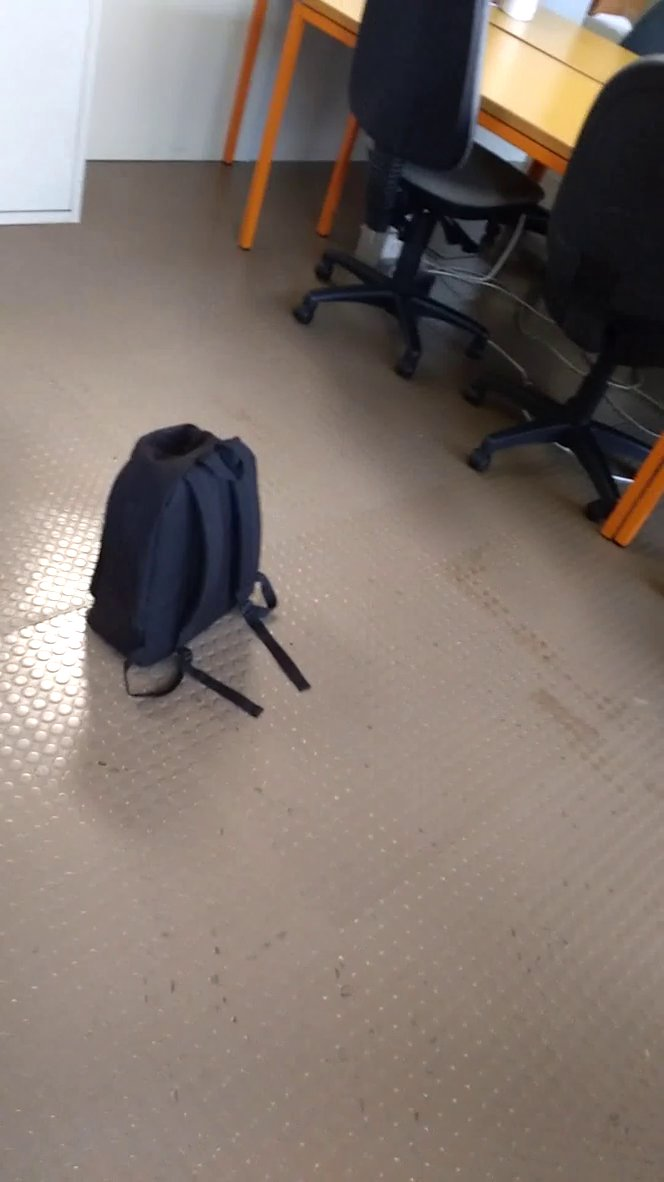bag: (80, 408, 318, 725)
chair: (305, 1, 547, 394)
